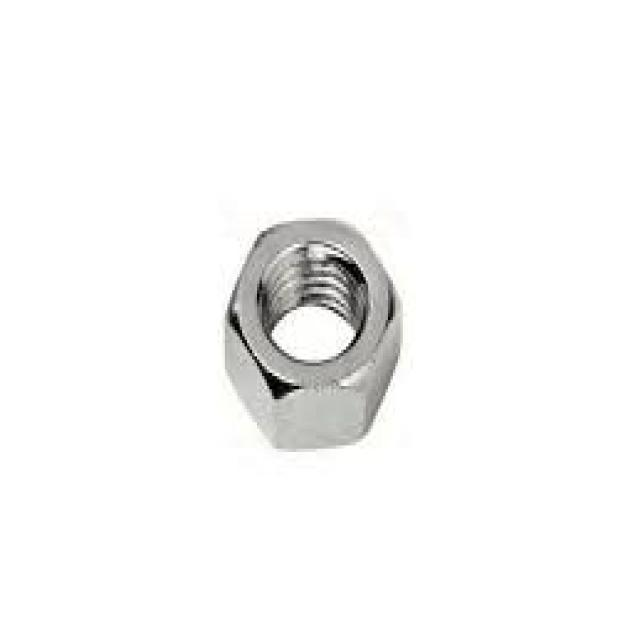Dry Waste: (220, 182, 406, 468)
